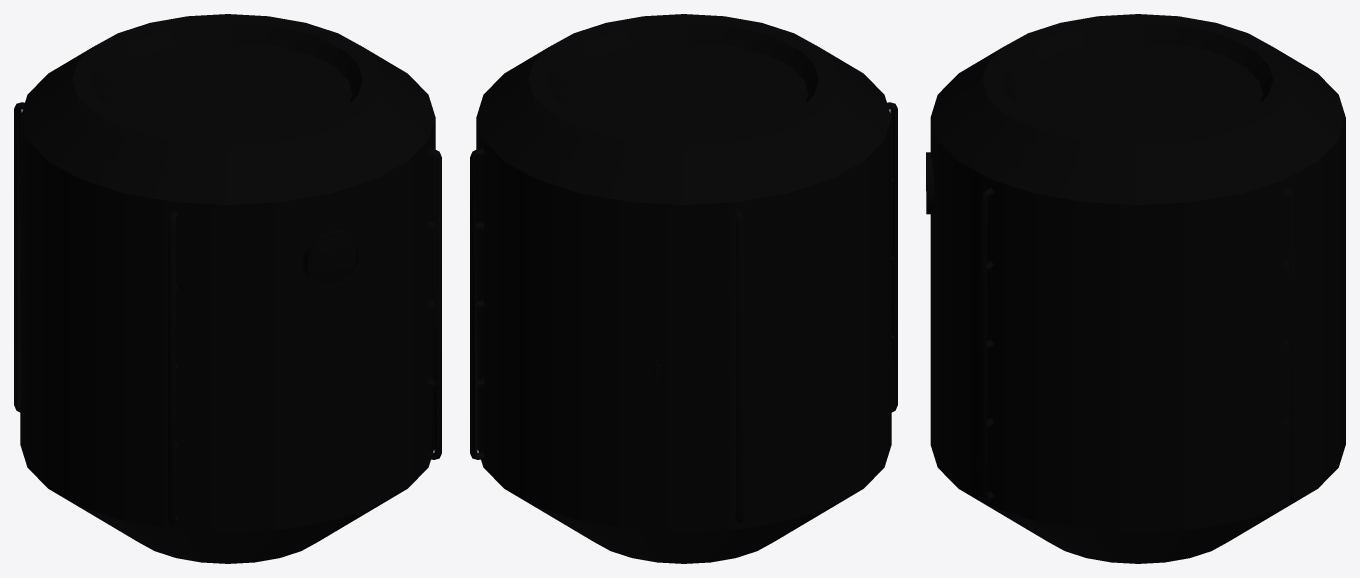
The model's file is Tantares_Habitation_2.obj.
The picture shows the model from 3 angles, left to right: view 1: azimuth 30°, elevation 25°; view 2: azimuth 150°, elevation 25°; view 3: azimuth 270°, elevation 25°; orthographic projection.
Visible parts, largest first — view 1: Tantares_Habitation_2, Tantares_Habitation_2_Window; view 2: Tantares_Habitation_2; view 3: Tantares_Habitation_2.
Boxes of the visible parts, x1,y1,x2,y2 form: Tantares_Habitation_2: (14, 14, 441, 563); Tantares_Habitation_2_Window: (309, 235, 356, 285); Tantares_Habitation_2: (470, 14, 897, 563); Tantares_Habitation_2: (926, 14, 1345, 563).
Size of the model in its own units: 1.25 by 1.46 by 1.26.
Materials: 2 (2 with a texture image).
